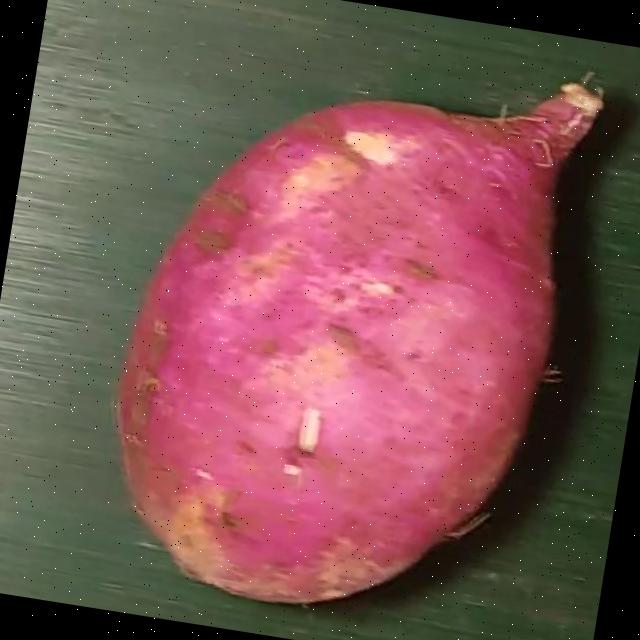Sweet Potato: (114, 78, 601, 606)
